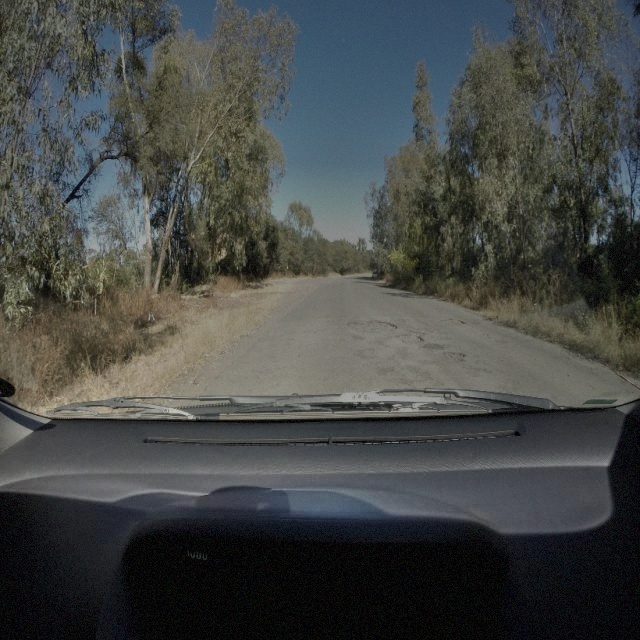pothole: (346, 315, 396, 334), (396, 328, 423, 346), (440, 348, 462, 363), (439, 315, 465, 324)
